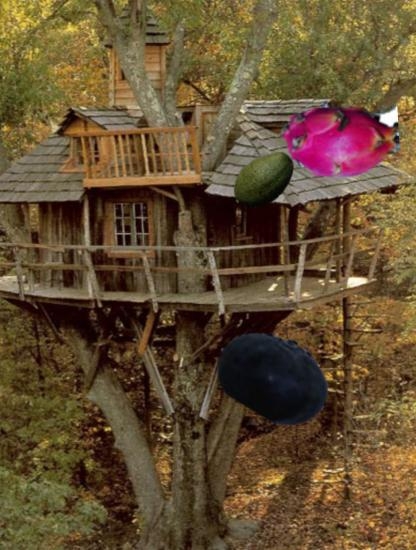Avocado: (229, 144, 300, 215)
Blueberry: (215, 317, 333, 435)
Pitahaya: (279, 78, 400, 199)
